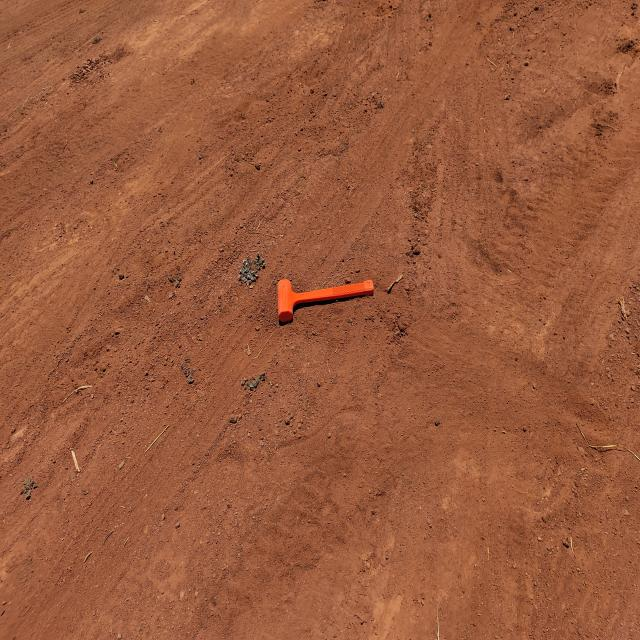Orange_hammer: (276, 277, 374, 324)
